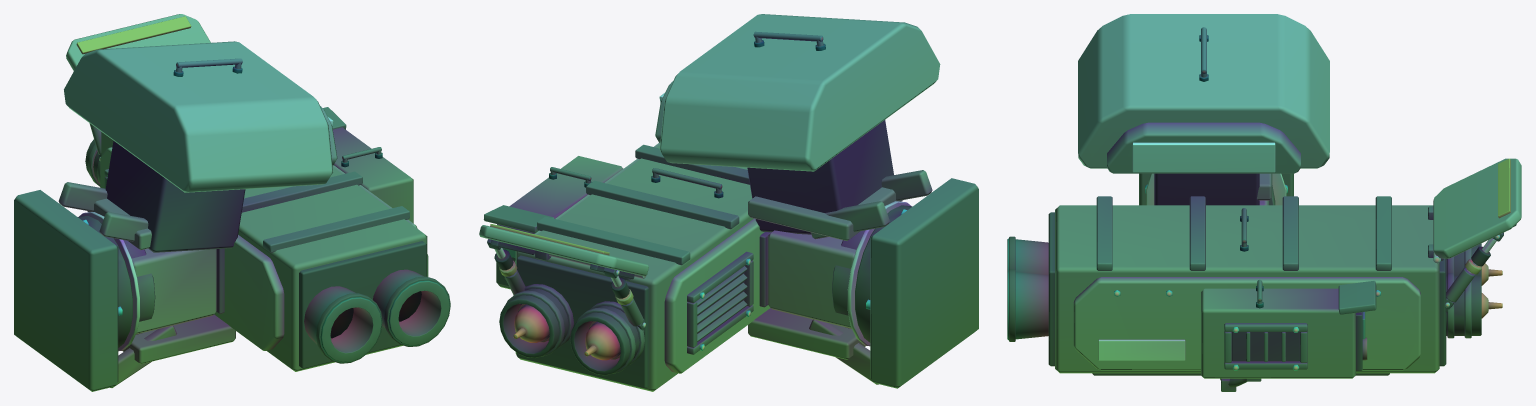
Rendered from arm_tow2b.glb.
3 views of the same model, side by side, from view 1: azimuth 30°, elevation 25°; view 2: azimuth 150°, elevation 25°; view 3: azimuth 270°, elevation 25° (orthographic). The views are drawn at different scales.
Visible parts, largest first — view 1: Body__armor, Body__gunmetal, Body__armor_sub, Body__dark, Body__accent, Body__chrome, Body__bore; view 2: Body__armor, Body__gunmetal, Body__armor_sub, Body__dark, Body__chrome, Body__rubber, Body__accent; view 3: Body__armor, Body__armor_sub, Body__gunmetal, Body__dark, Body__hazard, Body__chrome, Body__accent.
Boxes of the visible parts, <box> form: Body__armor: <box>64,14,428,350</box>; Body__gunmetal: <box>14,58,449,391</box>; Body__armor_sub: <box>58,106,427,387</box>; Body__dark: <box>78,66,450,368</box>; Body__accent: <box>76,16,191,54</box>; Body__chrome: <box>79,157,140,351</box>; Body__bore: <box>330,291,421,338</box>; Body__armor: <box>479,14,940,373</box>; Body__gunmetal: <box>483,31,978,388</box>; Body__armor_sub: <box>498,81,932,391</box>; Body__dark: <box>487,40,912,388</box>; Body__chrome: <box>487,201,911,350</box>; Body__rubber: <box>494,249,629,298</box>; Body__accent: <box>490,224,609,255</box>; Body__armor: <box>1073,14,1521,370</box>; Body__armor_sub: <box>1055,122,1488,378</box>; Body__gunmetal: <box>1007,27,1474,391</box>; Body__dark: <box>1009,35,1516,375</box>; Body__hazard: <box>1098,142,1275,360</box>; Body__chrome: <box>1114,173,1499,370</box>; Body__accent: <box>1498,158,1510,218</box>.
Size of the model in its own units: 1.34 by 1.03 by 1.66.
